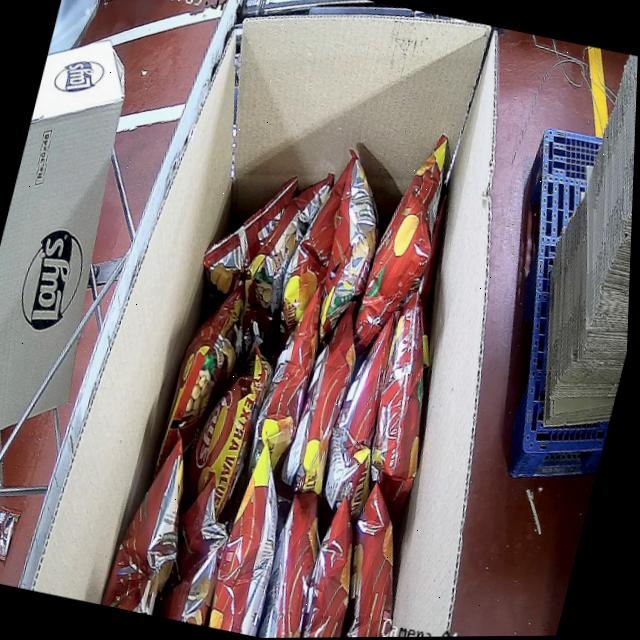MASALA: (99, 89, 514, 639)
